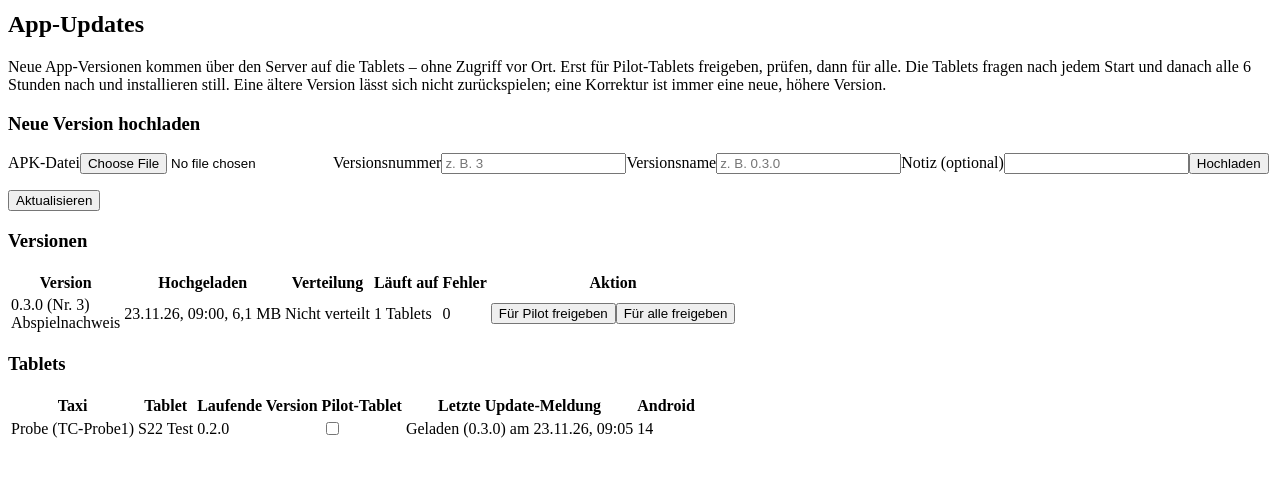
App-Updates im Dashboard › markiert ein Tablet als Pilot-Tablet
Click the checkbox named "Pilot-Tablet: S22 Test" at (332, 429), box [326, 422, 339, 435]
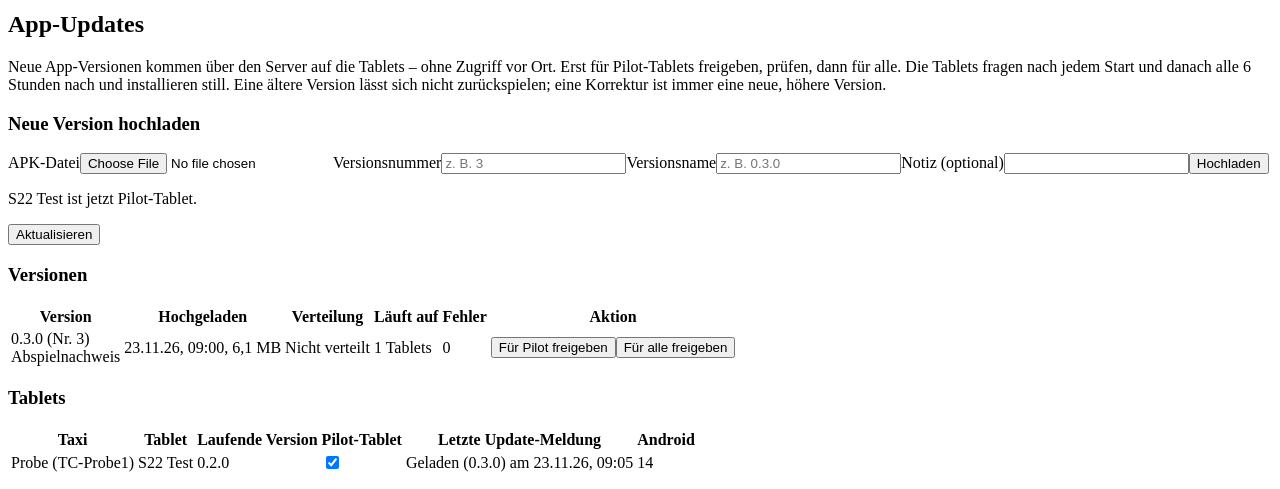
Result: the checkbox named "Pilot-Tablet: S22 Test" is checked at [326, 456, 339, 469]
Result: the message reads "S22 Test ist jetzt Pilot-Tablet." at [8, 190, 197, 207]
